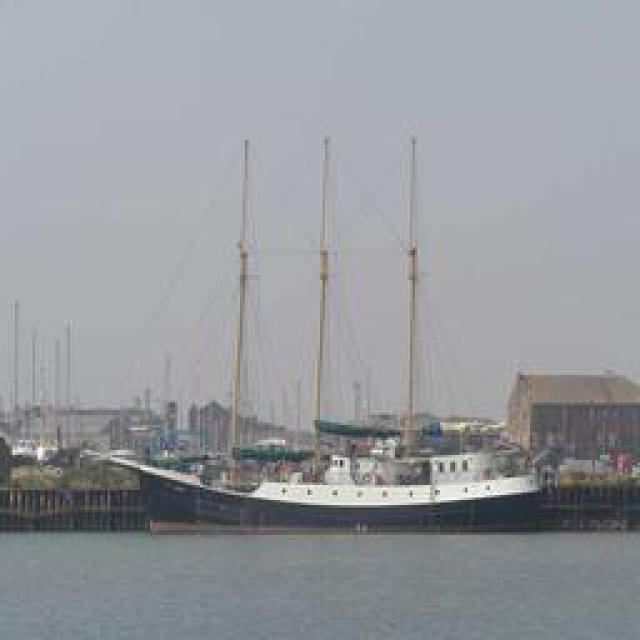Ship: (106, 431, 549, 531)
